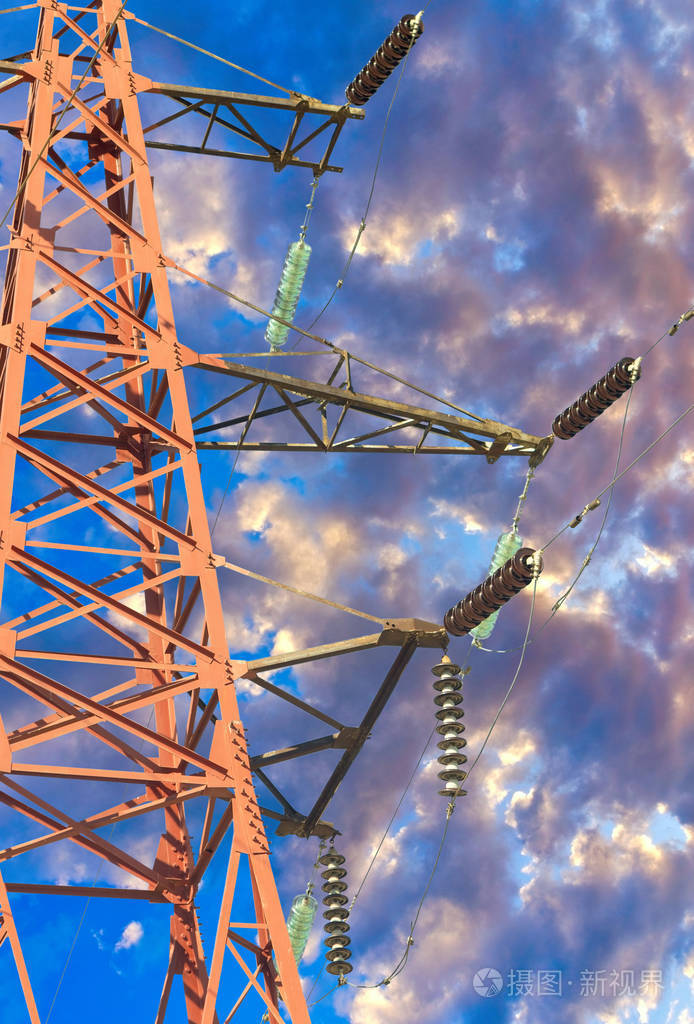insulator: (443, 548, 543, 637), (552, 358, 639, 438), (346, 13, 419, 104), (470, 532, 519, 645), (433, 658, 470, 805), (320, 853, 358, 978), (264, 243, 310, 346), (286, 893, 315, 967)
